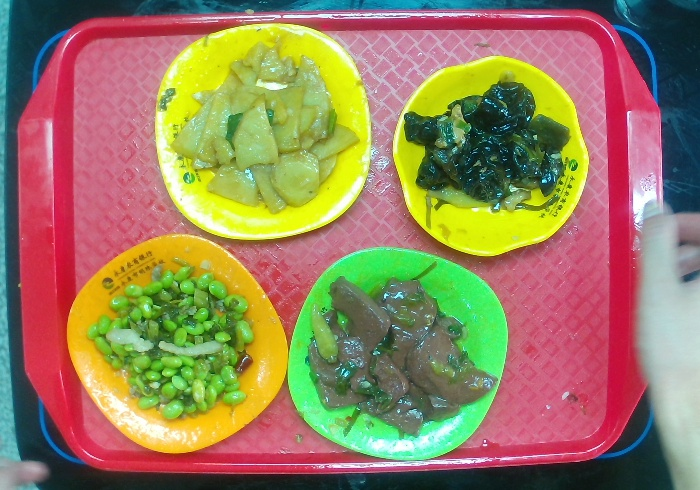YKMZ-Huang_Se_Ao_Bian_Wan: (384, 51, 598, 259)
YKMZ-Huang_Se_Fang_Die: (148, 17, 378, 245)
YKMZ-Ju_Se_Fang_Die: (59, 229, 295, 466)
YKMZ-Lv_Se_Fang_Die: (280, 237, 516, 468)
